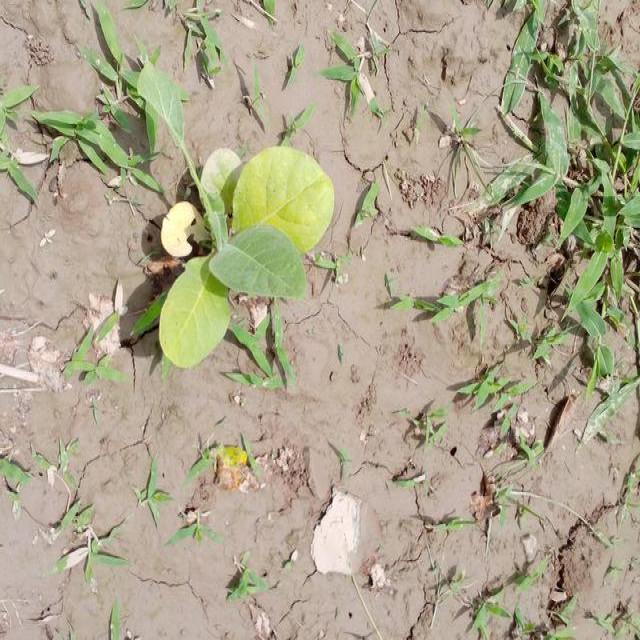crop: (134, 58, 332, 363)
